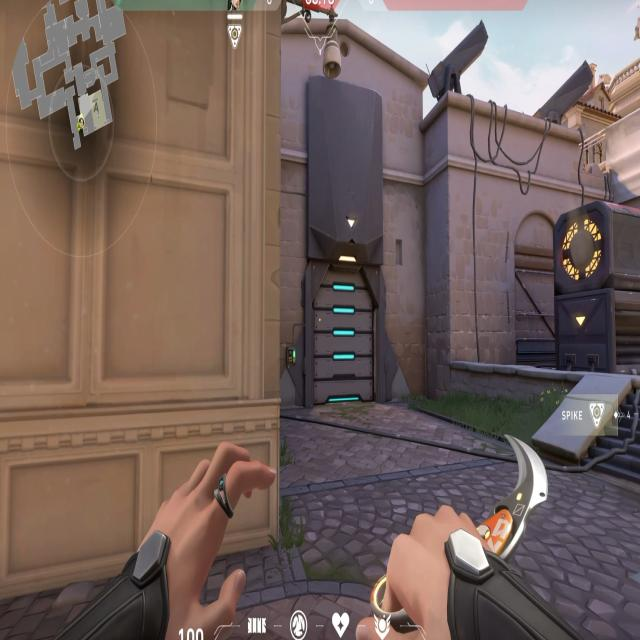A_Door: (300, 231, 384, 415)
